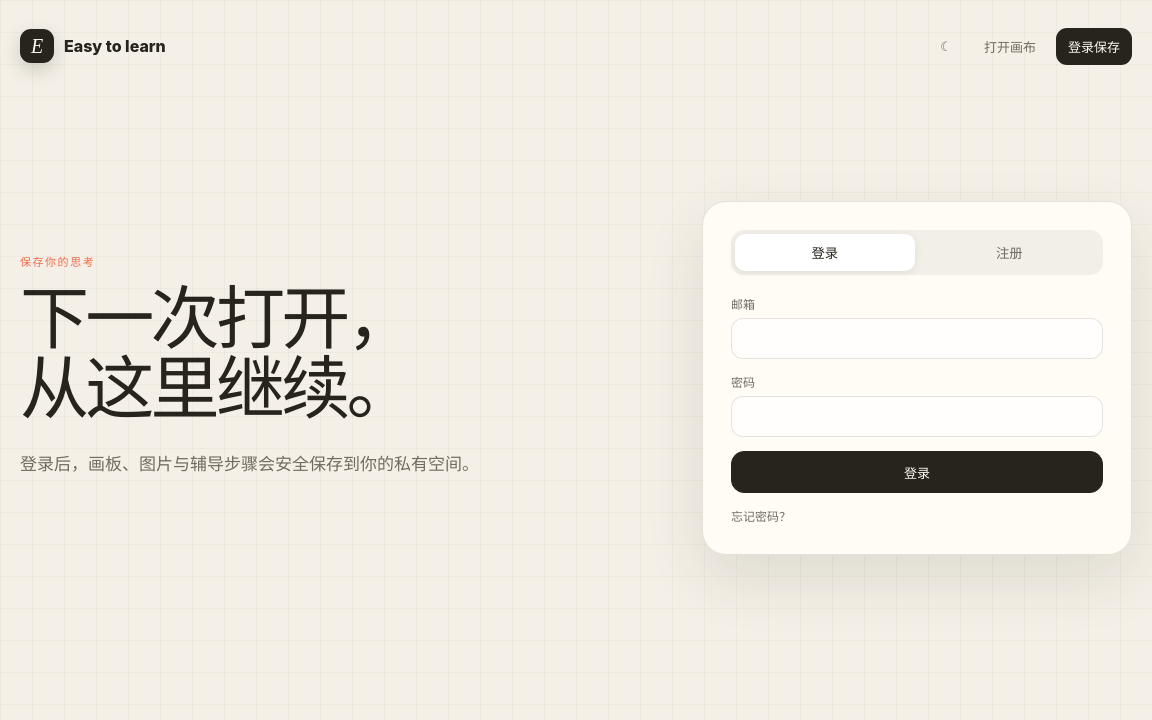
Test case: LoginPage › 找回密码使用不泄露账户是否存在的统一成功文案
The image size is (1152, 720).
Click the button "忘记密码？" at coordinates (761, 516), box [731, 505, 791, 526]
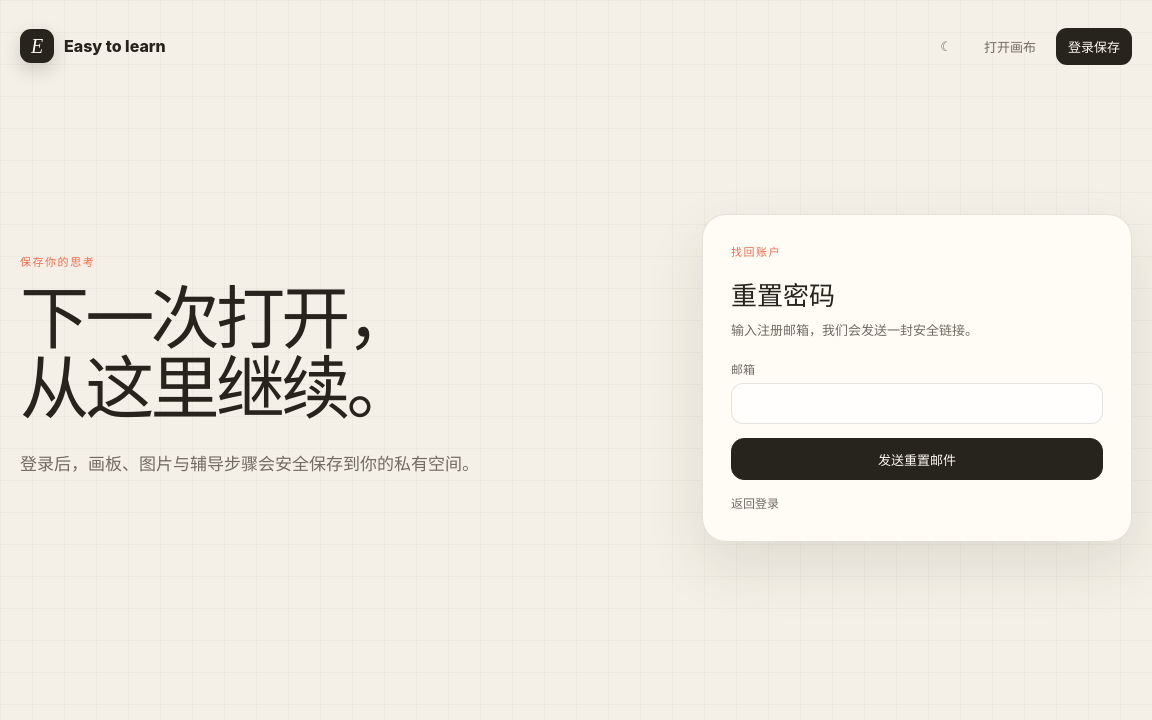
Type "unknown@example.com" into the field labelled "邮箱" at coordinates (917, 404), box [731, 383, 1103, 424]
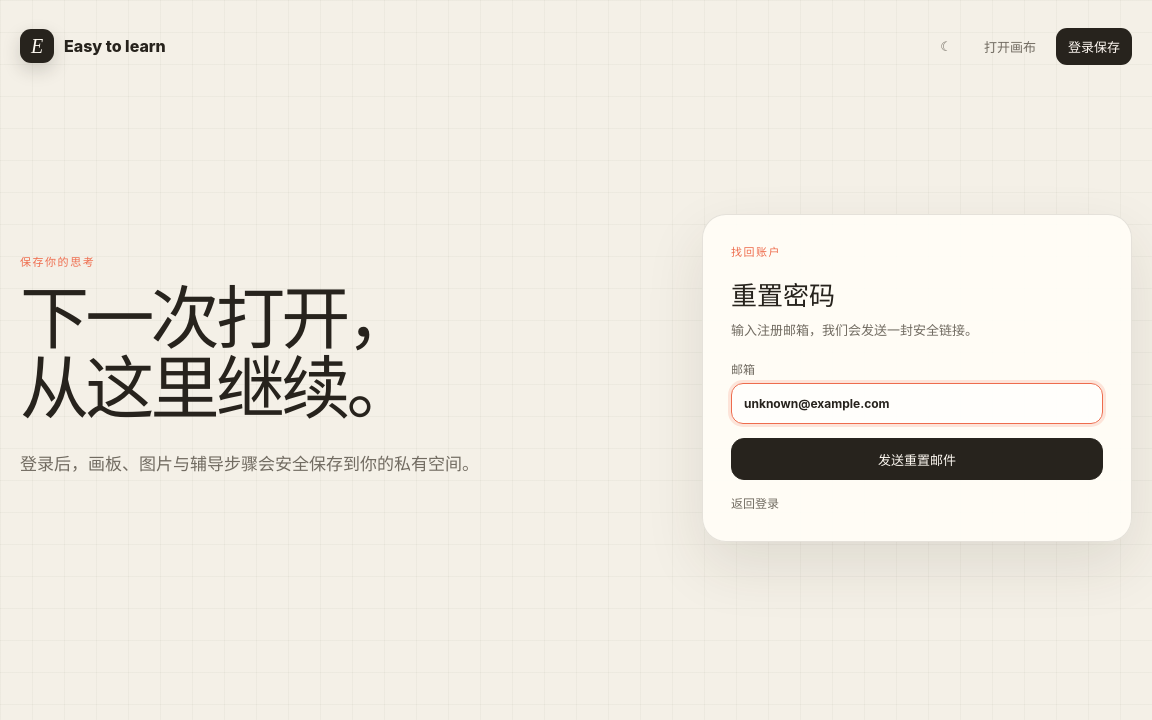
Click the button "发送重置邮件" at coordinates (917, 459), box [731, 438, 1103, 480]
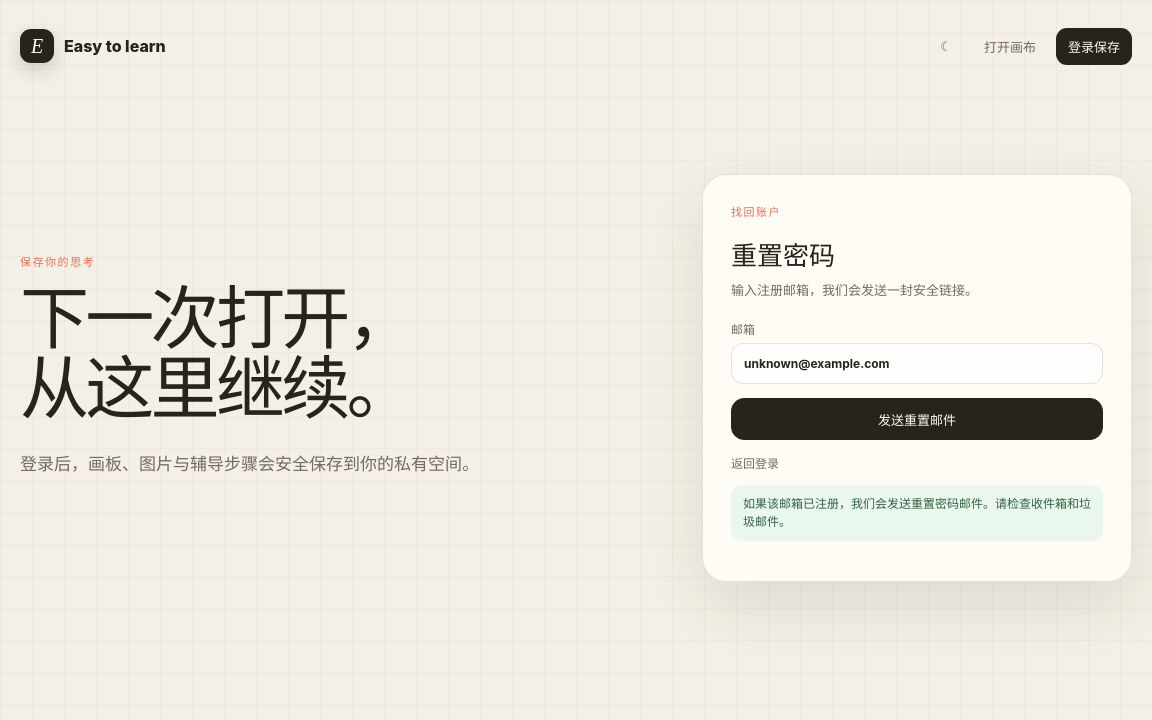
Result: the text "如果该邮箱已注册，我们会发送重置密码邮件。请检查收件箱和垃圾邮件。" is shown at [731, 485, 1103, 541]
